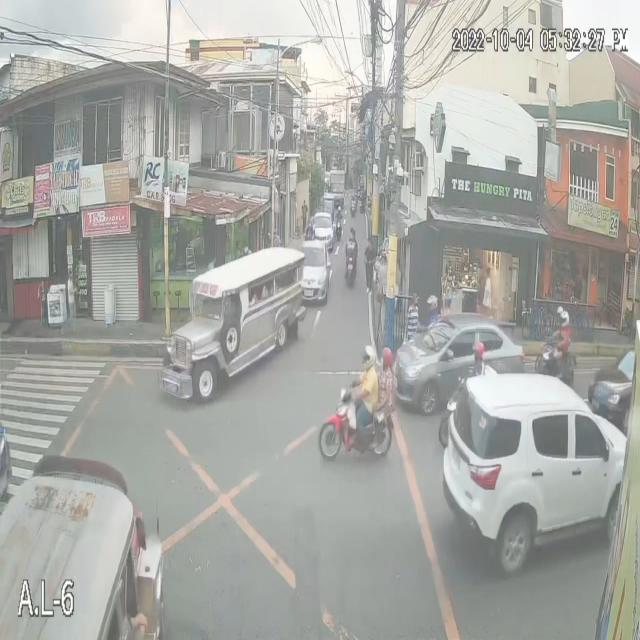Full-Faced: (358, 344, 377, 372), (376, 346, 393, 374), (468, 344, 488, 367), (557, 303, 571, 334), (346, 224, 355, 242), (336, 202, 343, 216)
